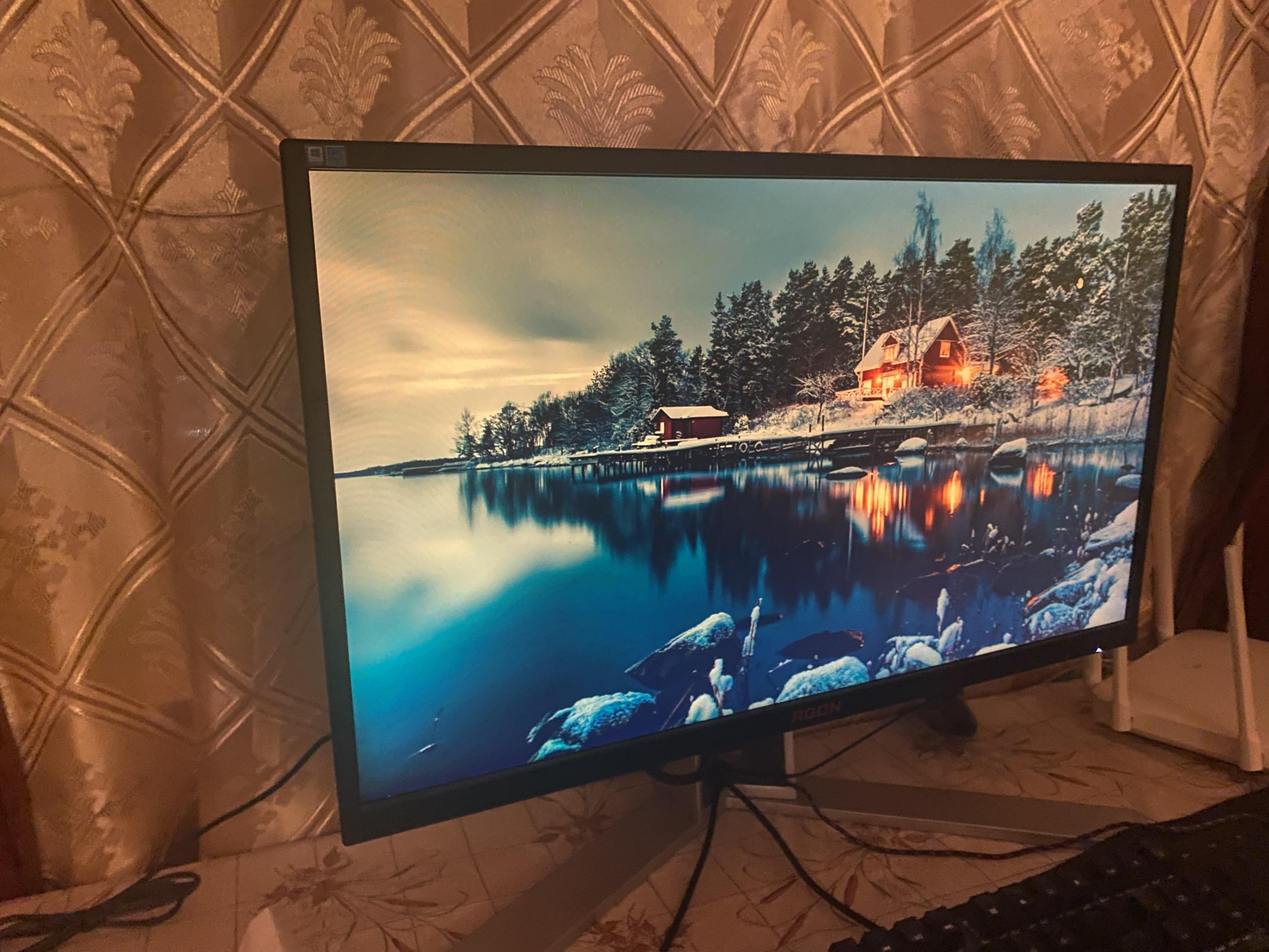monitor: (272, 137, 1198, 850)
